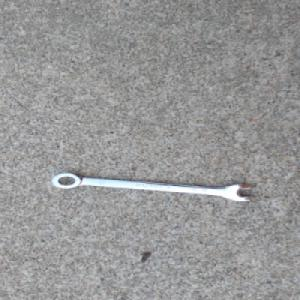Wrench: (48, 171, 256, 203)
